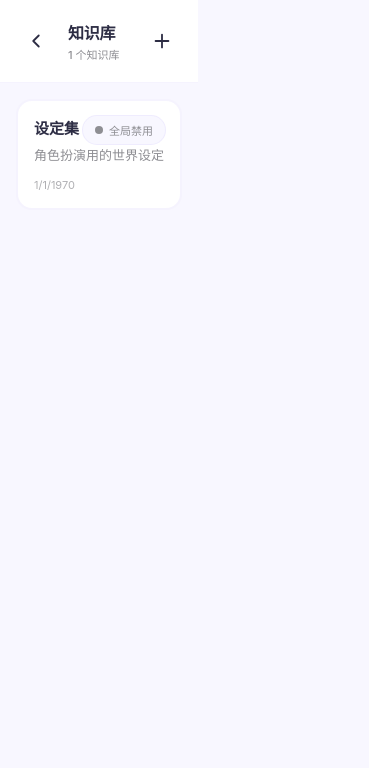
Test: KnowledgeBasePage 详情与条目 › 内联编辑：改名后写回，取消改动不落库
The width and height of the screenshot is (369, 768).
Click the element with class "kb-card". click: (99, 154)
box: [16,99,182,210]
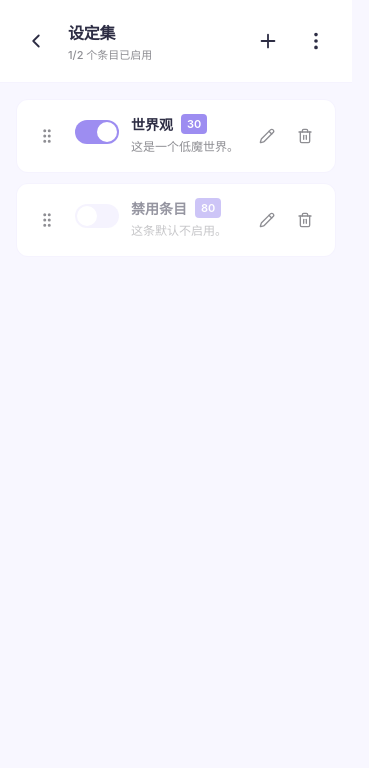
Result: the element with class "kb-detail-view" is shown
Click the 1st button with class "action-btn--edit". click: (267, 136)
box: [251,120,283,152]
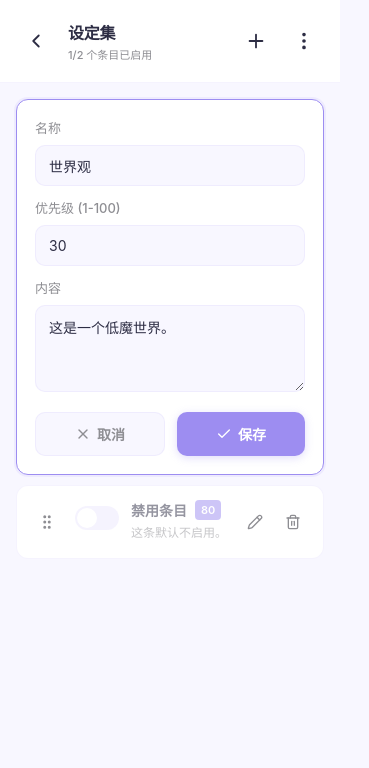
Result: the element with class "edit-form" is shown at [31,114,309,460]
Replace the text in the field with "改名后". click: (170, 166)
box: [35,145,305,186]
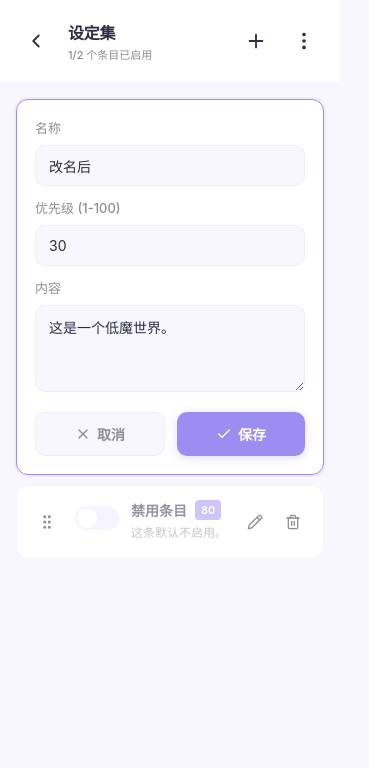
Replace the text in the number field with "10". click: (170, 246)
box: [35,225,305,266]
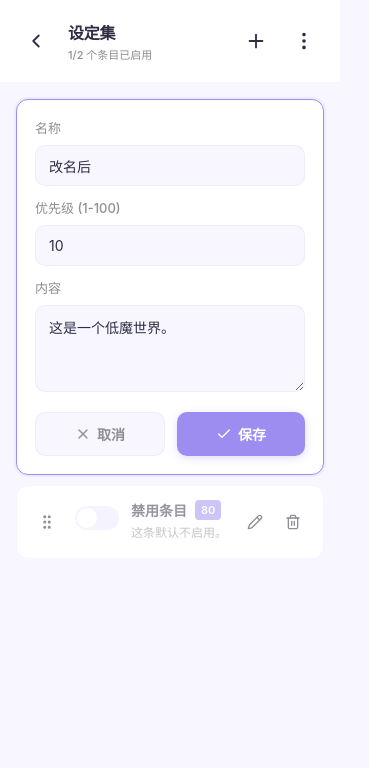
Click the button with class "form-action-btn" showing "保存". click: (241, 434)
box: [177,412,305,456]
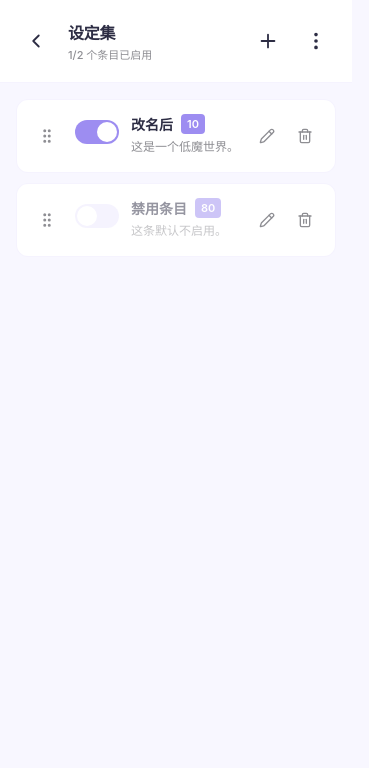
Result: the text "改名后" is shown at [131,116,173,133]
